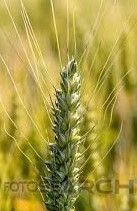Healthy Wheat: (38, 52, 90, 205)
